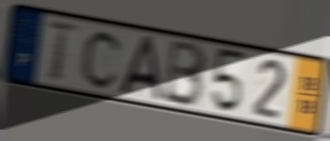2: (250, 58, 288, 123)
5: (207, 47, 250, 115)
A: (117, 33, 164, 102)
B: (161, 38, 209, 110)
C: (80, 28, 125, 91)
T: (46, 18, 81, 85)
